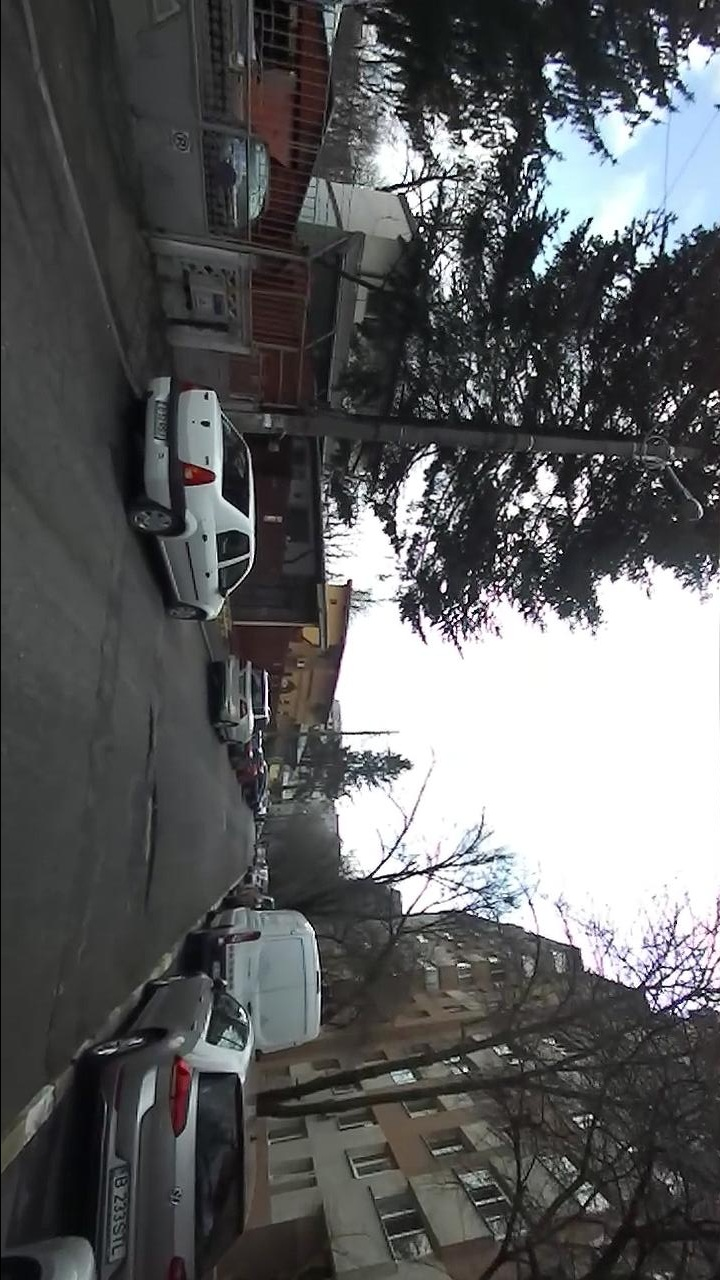pothole: (141, 783, 161, 912), (145, 702, 159, 766)
